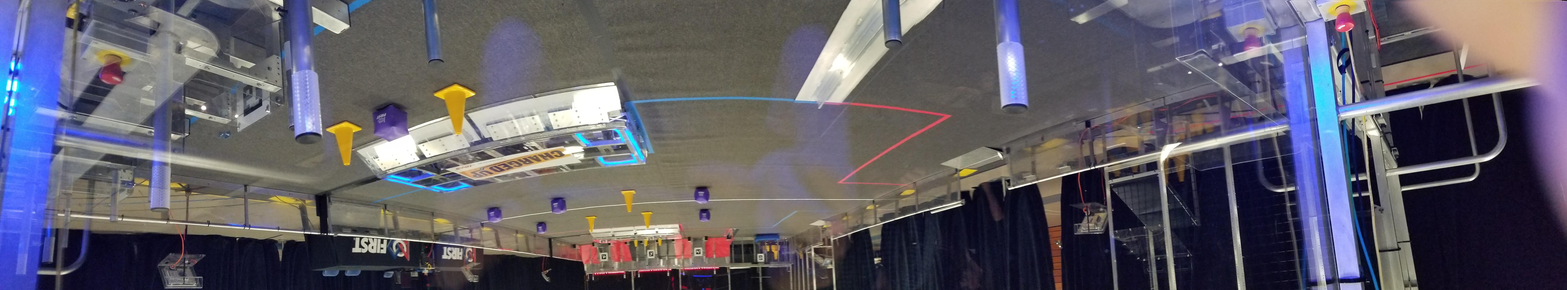cone: (1080, 149, 1135, 208), (1202, 120, 1240, 171), (930, 73, 950, 102), (966, 57, 985, 77), (912, 60, 930, 80), (786, 29, 798, 50), (913, 41, 922, 53), (928, 39, 935, 53), (905, 44, 915, 53)
cube: (1155, 148, 1198, 190), (856, 83, 880, 107), (1017, 51, 1039, 72), (997, 75, 1017, 96), (1058, 66, 1080, 83), (855, 67, 874, 85), (771, 28, 785, 45), (801, 32, 811, 45)
robot: (782, 44, 818, 58)
